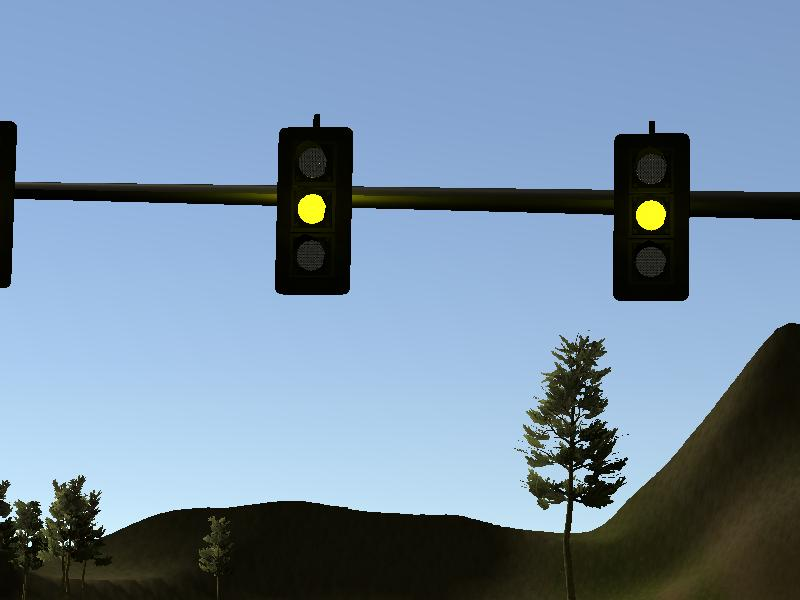yellow: (274, 123, 354, 298), (611, 130, 691, 305)
